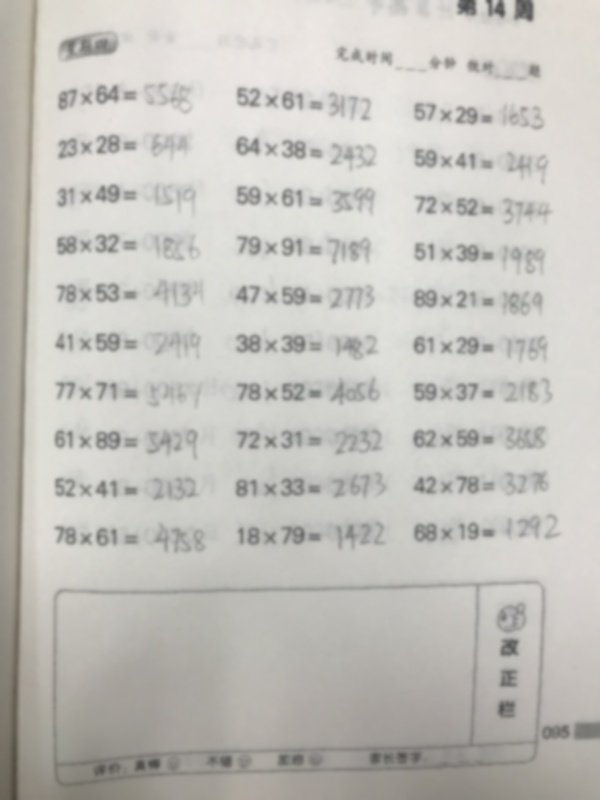equation: (411, 146, 552, 187), (54, 273, 207, 310), (55, 78, 197, 117), (53, 228, 212, 262), (53, 520, 207, 555), (233, 469, 387, 504), (234, 516, 388, 551), (233, 424, 386, 459), (232, 374, 384, 409), (52, 328, 204, 363), (53, 376, 205, 411), (53, 424, 205, 459), (233, 183, 378, 219), (232, 136, 380, 171), (410, 514, 565, 547), (233, 330, 383, 364), (233, 233, 374, 269), (410, 192, 556, 226), (411, 374, 556, 408), (226, 282, 378, 314), (410, 333, 552, 367), (53, 182, 199, 215), (52, 474, 210, 504), (410, 240, 548, 274), (233, 85, 376, 117), (410, 421, 549, 453), (410, 286, 546, 318), (54, 132, 193, 163), (410, 97, 549, 128), (409, 469, 552, 499)
